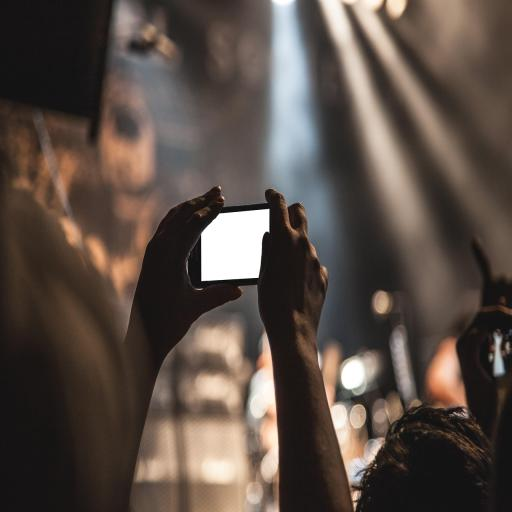phone: (190, 208, 292, 287)
